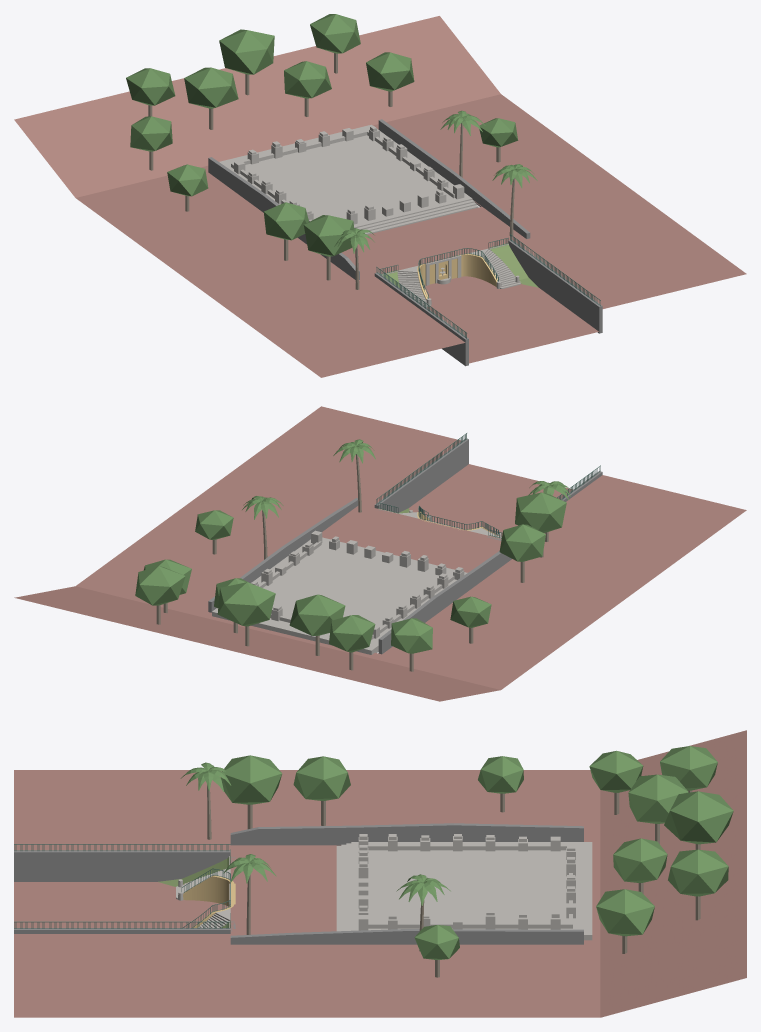
File: theatre-actuel.glb
3 views of the same model, one above another, from view 1: azimuth 30°, elevation 25°; view 2: azimuth 150°, elevation 25°; view 3: azimuth 270°, elevation 25° (orthographic). The views are drawn at different scales.
Visible parts, largest first — view 1: Sol_actuel, Feuillages_actuel, Gradins_actuel, Parvis_bas_actuel, Murs_moellons_actuel, Murs_parvis_actuel, Bases_piliers_actuel, Ferronneries_actuel, Troncs_actuel, Escaliers_actuel, Soubassements_actuel, Murs_cour_actuel (+1 smaller); view 2: Sol_actuel, Feuillages_actuel, Gradins_actuel, Parvis_bas_actuel, Murs_moellons_actuel, Bases_piliers_actuel, Murs_parvis_actuel, Ferronneries_actuel, Troncs_actuel, Soubassements_actuel; view 3: Sol_actuel, Feuillages_actuel, Gradins_actuel, Murs_moellons_actuel, Parvis_bas_actuel, Murs_parvis_actuel, Bases_piliers_actuel, Ferronneries_actuel, Soubassements_actuel, Troncs_actuel, Murs_cour_actuel, Escaliers_actuel (+1 smaller).
Part boxes in pixels (x1,y1,x2,y2): Sol_actuel: (14,16,746,377); Feuillages_actuel: (126,14,537,256); Gradins_actuel: (219,124,478,234); Parvis_bas_actuel: (424,267,598,363); Murs_moellons_actuel: (208,119,530,279); Murs_parvis_actuel: (374,240,602,366); Bases_piliers_actuel: (234,125,464,224); Ferronneries_actuel: (376,234,600,338); Troncs_actuel: (148,53,515,289); Escaliers_actuel: (397,248,521,307); Soubassements_actuel: (231,130,454,221); Murs_cour_actuel: (417,253,497,299); Sol_actuel: (14,406,746,701); Feuillages_actuel: (135,439,571,653); Gradins_actuel: (212,537,467,654); Parvis_bas_actuel: (409,464,573,536); Murs_moellons_actuel: (208,498,511,654); Bases_piliers_actuel: (251,530,464,638); Murs_parvis_actuel: (374,438,602,512); Ferronneries_actuel: (376,433,600,538); Troncs_actuel: (156,454,548,671); Soubassements_actuel: (259,541,454,639); Sol_actuel: (14,730,746,1017); Feuillages_actuel: (180,746,733,959); Gradins_actuel: (336,842,592,940); Murs_moellons_actuel: (230,823,583,944); Parvis_bas_actuel: (14,882,228,927); Murs_parvis_actuel: (14,850,230,933); Bases_piliers_actuel: (358,834,575,930); Ferronneries_actuel: (14,844,230,928); Soubassements_actuel: (367,844,572,928); Troncs_actuel: (207,785,700,977); Murs_cour_actuel: (183,875,234,927); Escaliers_actuel: (176,868,230,927).
Bounding box in the file's own units: 72 × 17.7 × 90.01.
